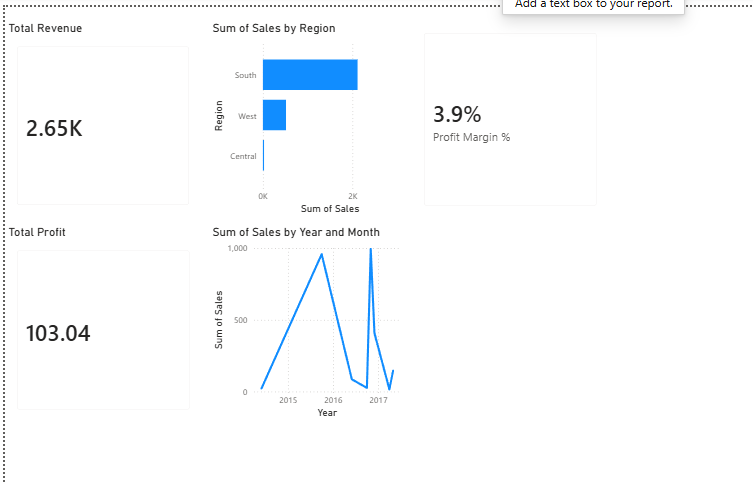

The page's visual inventory and layout, read from the dashboard file:
{"tool":"powerbi","page":{"name":"Page 1","canvas":[1280,720],"ordinal":0},"visuals":[{"type":"cardVisual","title":"Total Revenue","fields":{"Data":["Sum(Superstore.Sales)"]},"box":[0,20.2,280.5,280.5],"z":0},{"type":"cardVisual","title":"Total Profit","fields":{"Data":["Sum(Superstore.Profit)"]},"box":[0,311,281,281],"z":1000},{"type":"clusteredBarChart","fields":{"Category":["Superstore.Region"],"Y":["Sum(Superstore.Sales)"]},"box":[291,20,281,281],"z":2000},{"type":"lineChart","fields":{"Y":["Sum(Superstore.Sales)"],"Category":["Superstore.Order Date.Variation.Date Hierarchy.Year","Superstore.Order Date.Variation.Date Hierarchy.Month"]},"box":[291,311,281,281],"z":3000},{"type":"cardVisual","fields":{"Data":["Superstore.Profit Margin %"]},"box":[582,20,281,281],"z":4000}]}

Visuals, with their boxes on the page's 1280x720 design canvas (x1, y1, x2, y2). These are canvas units, not pixel positions in the 753x484 screenshot, which may show the page scaled, cropped or inside an application window:
"Total Revenue" cardVisual: {"left": 0, "top": 20, "right": 280, "bottom": 301}
"Total Profit" cardVisual: {"left": 0, "top": 311, "right": 281, "bottom": 592}
clusteredBarChart - Superstore.Region x Sum(Superstore.Sales): {"left": 291, "top": 20, "right": 572, "bottom": 301}
lineChart - Sum(Superstore.Sales) x Superstore.Order Date.Variation.Date Hierarchy.Year: {"left": 291, "top": 311, "right": 572, "bottom": 592}
cardVisual - Superstore.Profit Margin %: {"left": 582, "top": 20, "right": 863, "bottom": 301}
